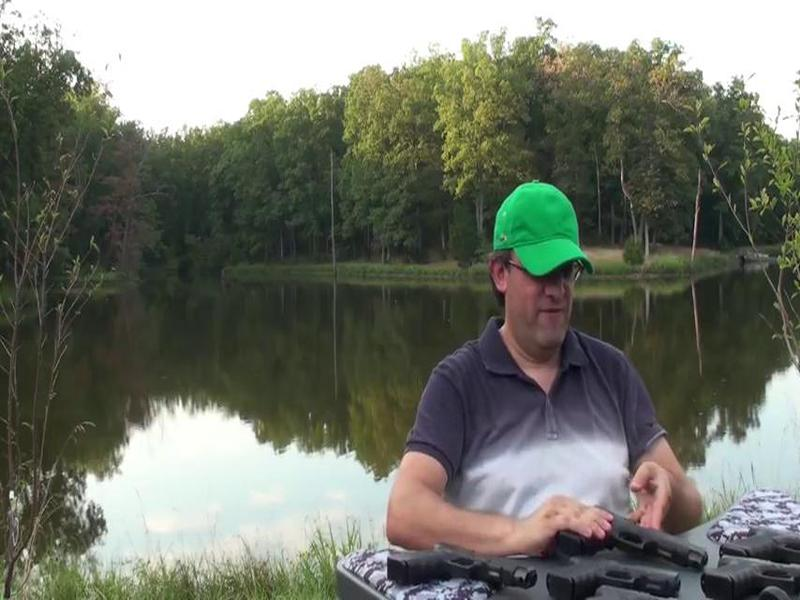Pistola: (531, 479, 714, 575)
